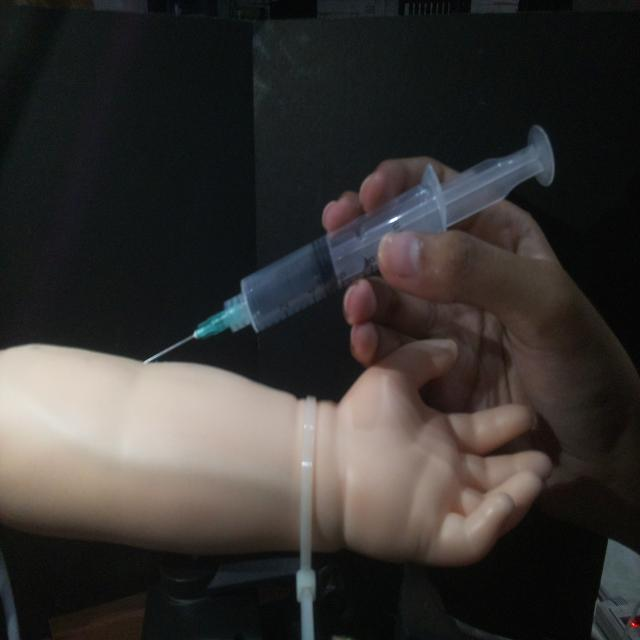23deg: (138, 119, 559, 367)
